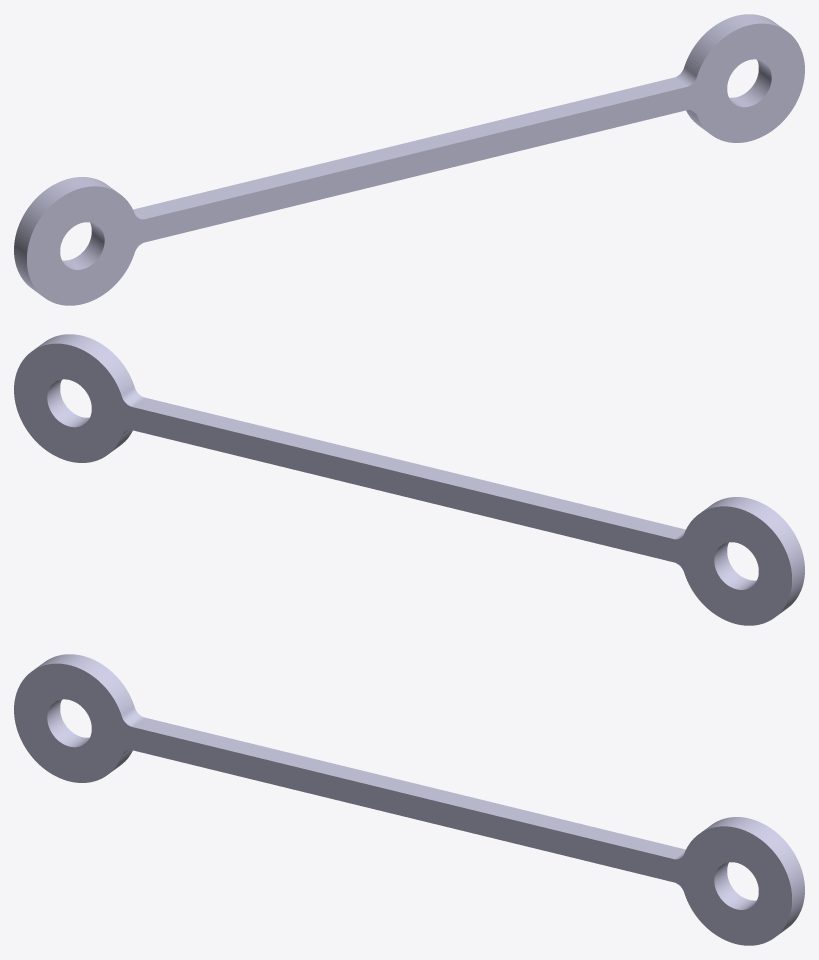
File: brazo.dae
The picture shows the model from 3 angles, top to bottom: view 1: azimuth 30°, elevation 25°; view 2: azimuth 150°, elevation 25°; view 3: azimuth 330°, elevation 25°; orthographic projection.
Visible parts, largest first — view 1: node0; view 2: node0; view 3: node0.
Part boxes in pixels (left/top/right/bottom): node0: left=14, top=14, right=804, bottom=305; node0: left=14, top=334, right=804, bottom=625; node0: left=14, top=654, right=804, bottom=945.
Size of the model in its own units: 0.35 by 0.01 by 0.05.
